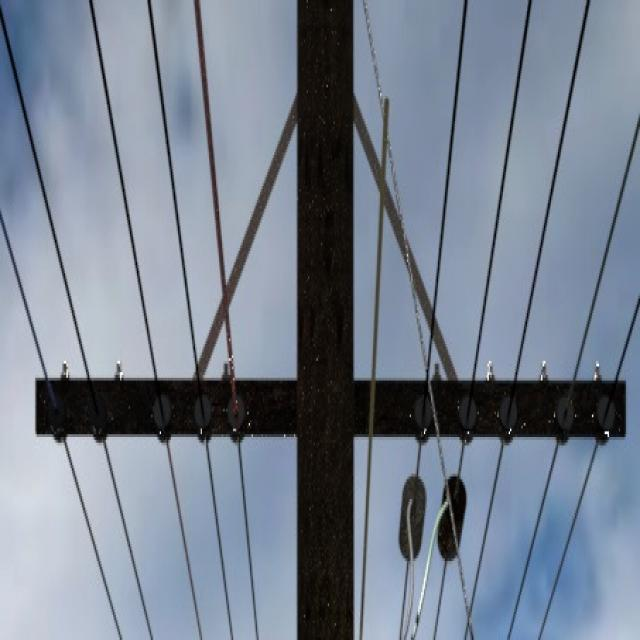crossarm: (37, 375, 627, 443)
pole: (297, 0, 357, 640)
